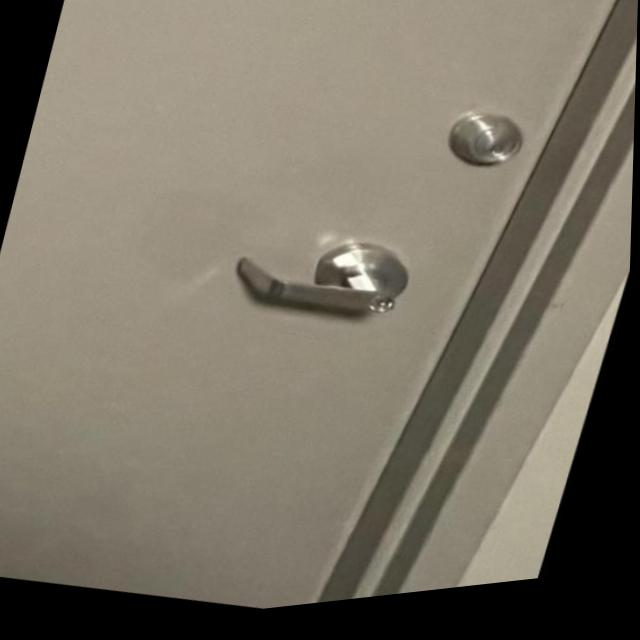door_handle: (201, 215, 446, 378)
